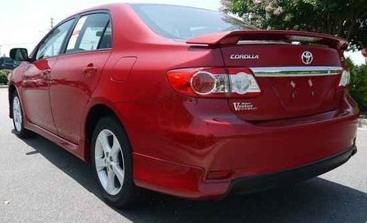back_view: (171, 36, 361, 190)
backlight: (165, 60, 267, 101)
side_glass: (25, 11, 112, 55)
